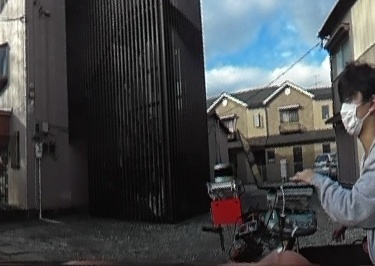person: (294, 61, 375, 266)
